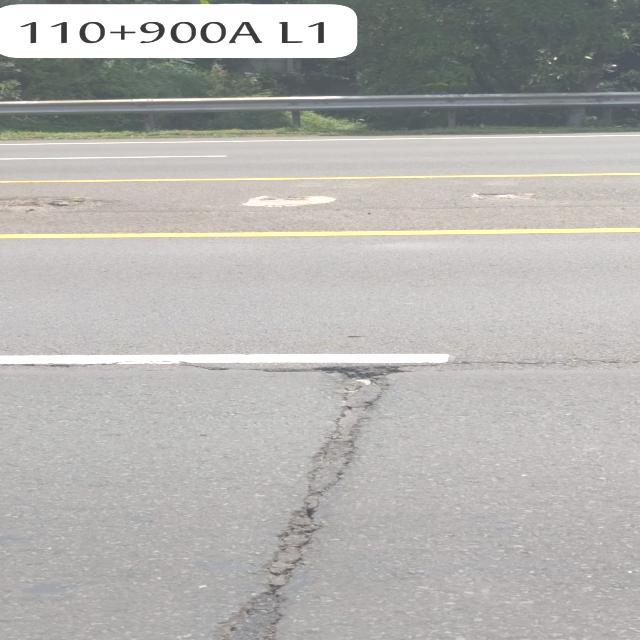Buraco: (312, 364, 404, 397), (0, 195, 117, 214)
